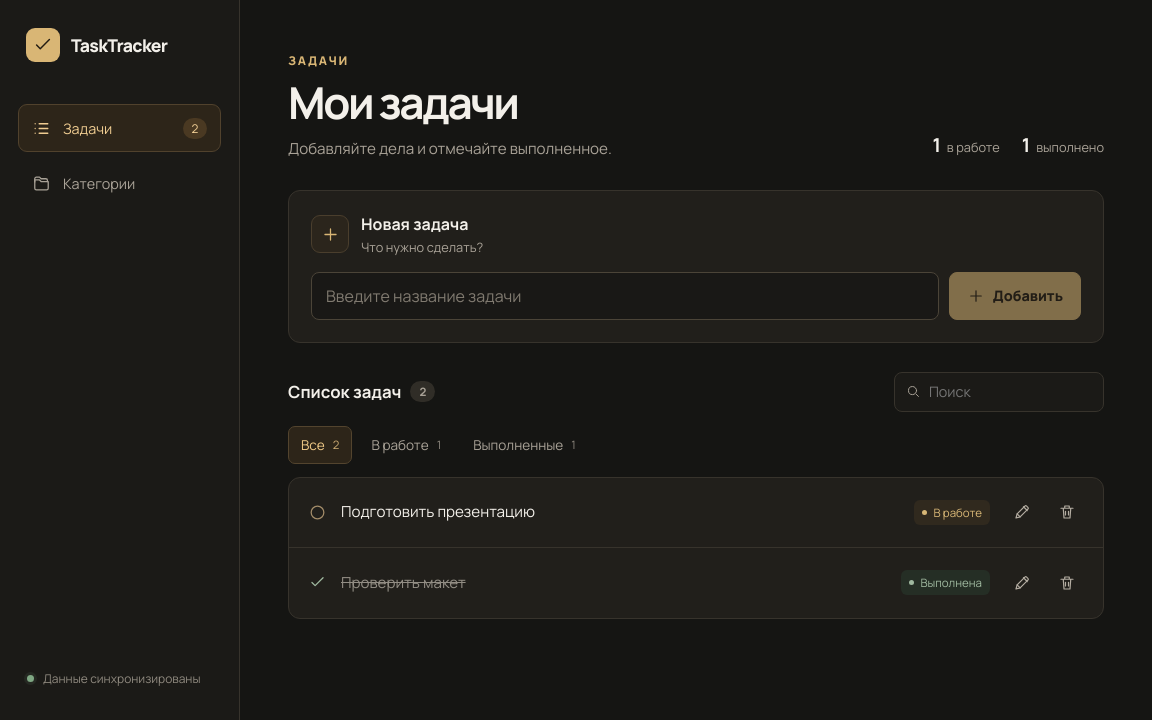
Test: TaskTracker › loads real tasks directly from the configured backend and filters locally
This screenshot has width=1152, height=720.
Expected: the text "Подготовить презентацию" is shown, [341,501,535,522]
Step 1. Type "МАКЕТ" into the search field named "Поиск задач" → (1010, 392), box [929,374,1092,409]
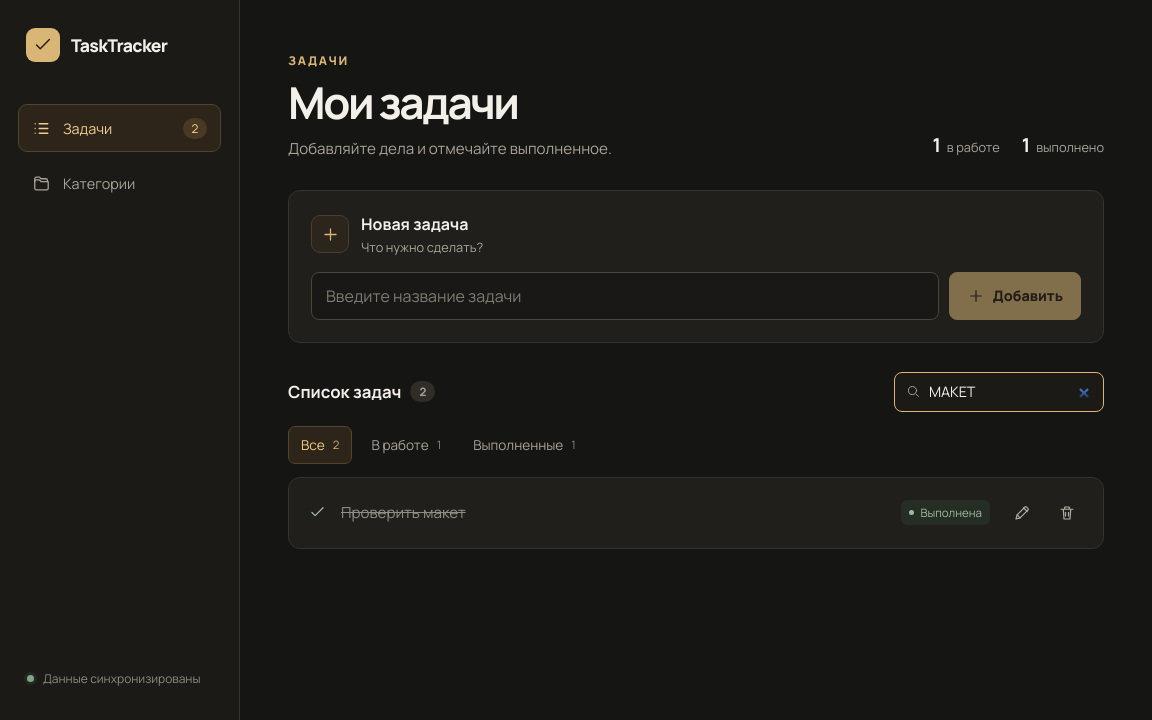
Expected: the text "Проверить макет" is shown, [341,502,466,523]
Now the text "Подготовить презентацию" is gone
Step 2. Clear the search field named "Поиск задач" → (1010, 392), box [929,374,1092,409]
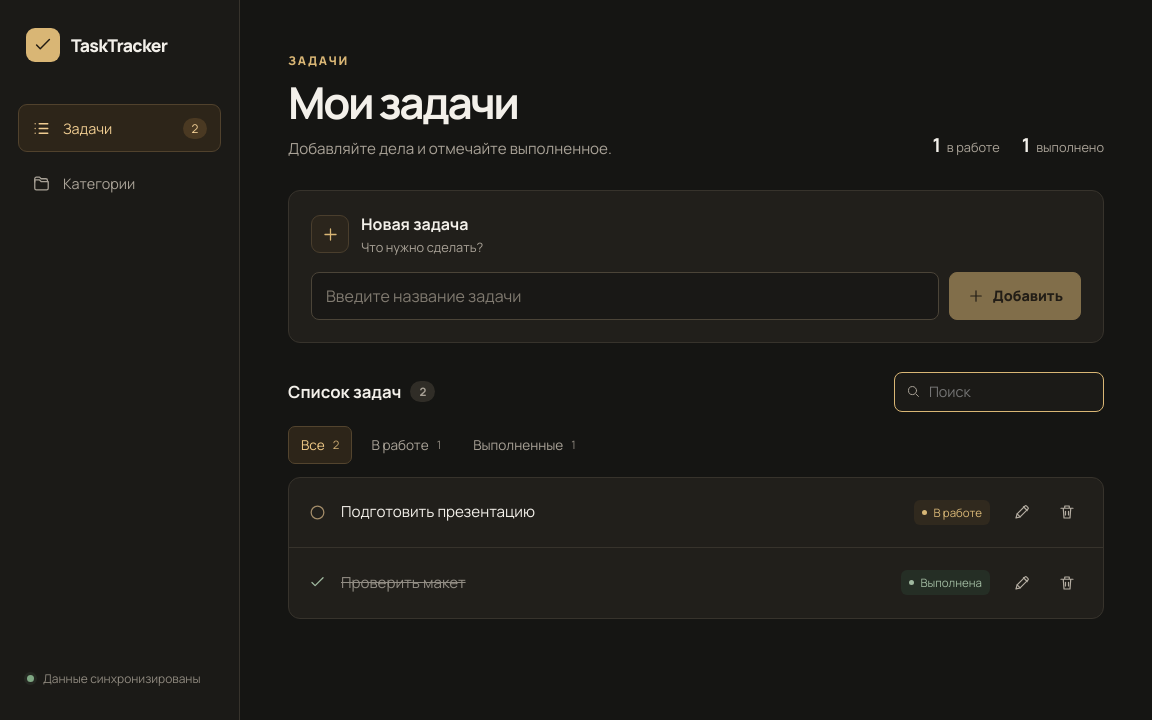
Step 3. Click the button "В работе 1" → (406, 445), box [358,426,454,464]
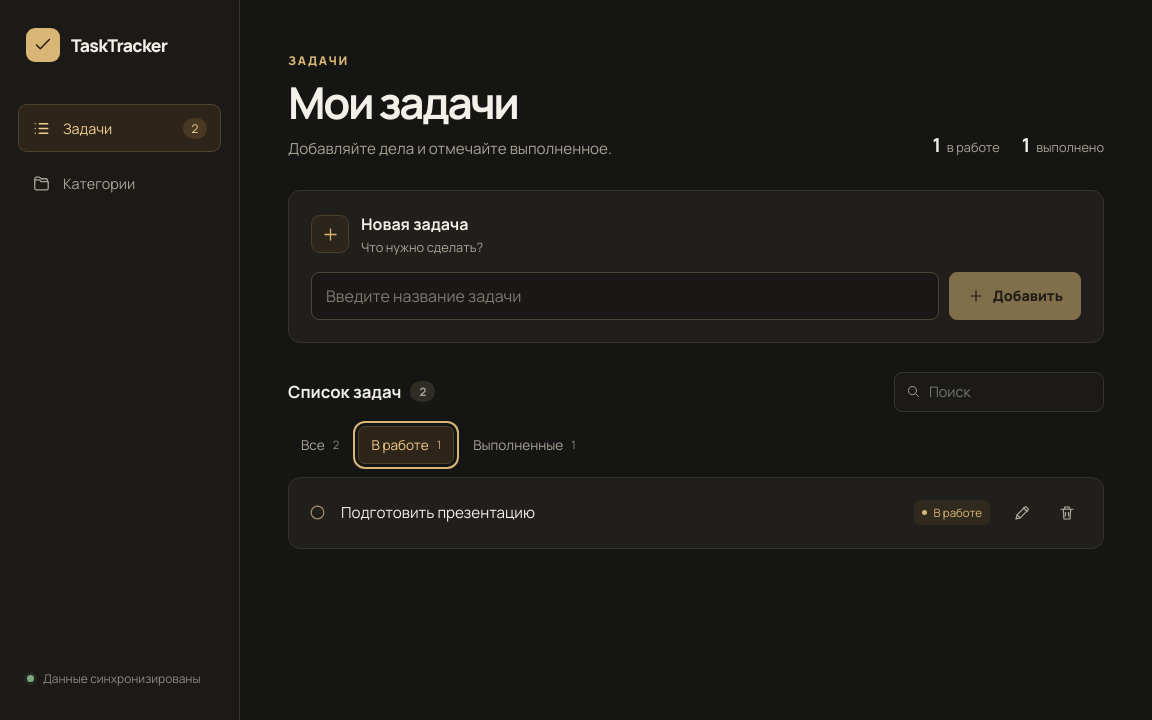
Now the text "Подготовить презентацию" is shown, box [341,502,535,523]
Now the text "Проверить макет" is gone
